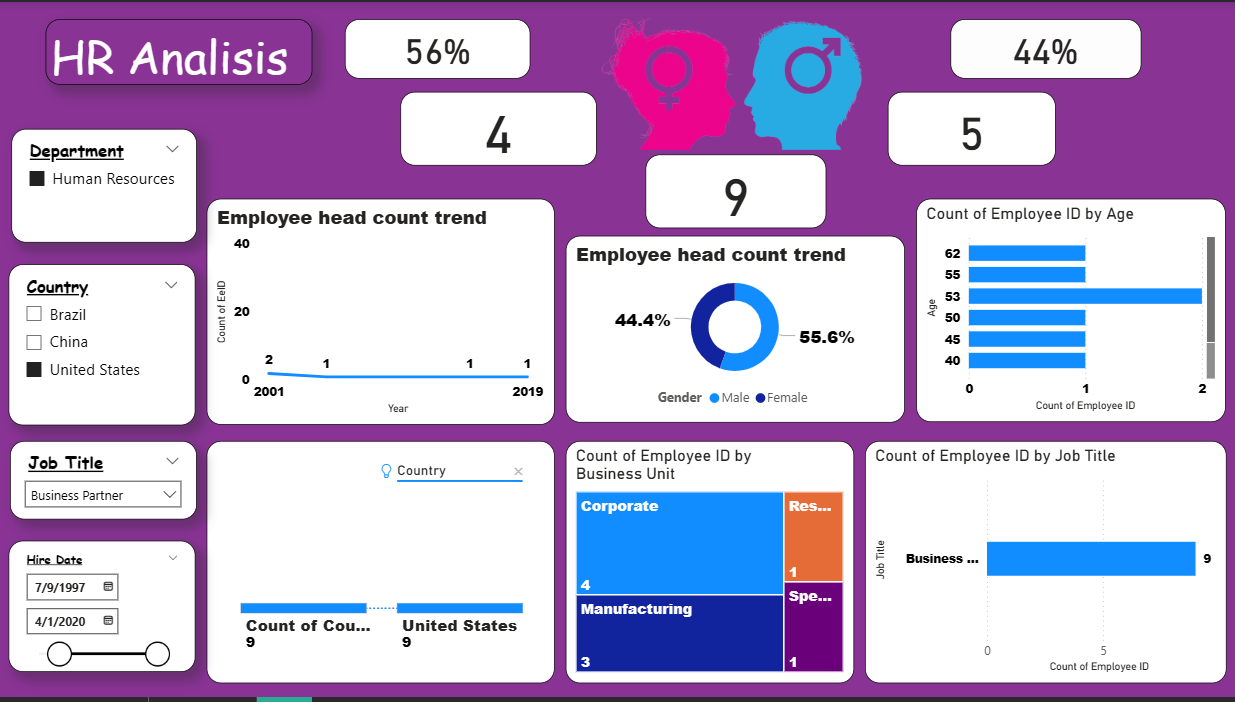

This screenshot's page, from the dashboard's own definition file:
{"tool":"powerbi","page":{"name":"Page 1","canvas":[1280,720],"ordinal":0},"visuals":[{"type":"card","fields":{"Values":["Employee Data.Total_count"]},"box":[669,158,187.6,76.8],"z":0},{"type":"lineChart","title":"Employee count trend","fields":{"Y":["Count(Employee Data.Employee ID)"],"Category":["Employee Data.Hire Date.Variation.Date Hierarchy.Year"]},"box":[214.1,203.1,360.9,234.6],"z":1000},{"type":"donutChart","title":"Employee head count trend","fields":{"Category":["Employee Data.Gender"],"Y":["Count(Employee Data.Employee ID)"]},"box":[586.3,242.2,351.5,193.5],"z":2000},{"type":"clusteredBarChart","title":"Employee Count by Age","fields":{"Category":["Employee Data.Age"],"Y":["CountNonNull(Employee Data.Employee ID)"]},"box":[949.6,203.8,320.5,231.9],"z":3000},{"type":"decompositionTreeVisual","title":"Head count by country","fields":{"Analyze":["CountNonNull(Employee Data.Country)"],"ExplainBy":["Employee Data.Country"]},"box":[214.1,454.2,360.9,251.1],"z":4000},{"type":"treemap","title":"Employee Count by Business Unit","fields":{"Group":["Employee Data.Business Unit"],"Values":["CountNonNull(Employee Data.Employee ID)"]},"box":[586.3,454.9,320.5,251.1],"z":5000},{"type":"clusteredBarChart","title":"Employee Count by Job Title","fields":{"Category":["Employee Data.Job Title"],"Y":["CountNonNull(Employee Data.Employee ID)"]},"box":[917.1,454.9,353,251.1],"z":6000},{"type":"card","fields":{"Values":["Employee Data.tOTAL_MALE_COUNT"]},"box":[920.1,93,190.5,76.8],"z":7000},{"type":"card","fields":{"Values":["Employee Data.TOTAL_FEMALE_COUNT"]},"box":[415,93,203.8,76.8],"z":8000},{"type":"card","fields":{"Values":["Employee Data.Male %"]},"box":[970.3,23.6,192,62],"z":9000},{"type":"image","box":[608.5,4.4,308.7,153.6],"z":10000},{"type":"card","fields":{"Values":["Employee Data.Female %"]},"box":[363.3,23.6,197.9,62],"z":11000},{"type":"shape","title":"HR Analisis","box":[46.5,17.3,276.5,67.8],"z":12000},{"type":"slicer","fields":{"Values":["Employee Data.Department"]},"box":[11.8,103.4,192,205.3],"z":13000},{"type":"slicer","fields":{"Values":["Employee Data.Country"]},"box":[8.9,320.5,193.5,134.4],"z":14000},{"type":"slicer","fields":{"Values":["Employee Data.Job Title"]},"box":[8.9,466.7,193.5,81.2],"z":15000},{"type":"slicer","fields":{"Values":["Employee Data.Hire Date"]},"box":[8.9,558.3,193.5,147.7],"z":16000}]}

Visuals, with their boxes in screenshot pixels (x1, y1, x2, y2), scaled from the page's 1280x720 canvas onto the 1235x702 screenshot:
card - Employee Data.Total_count: [645,154,826,229]
"Employee count trend" lineChart: [207,198,555,427]
"Employee head count trend" donutChart: [566,236,905,425]
"Employee Count by Age" clusteredBarChart: [916,199,1225,425]
"Head count by country" decompositionTreeVisual: [207,443,555,688]
"Employee Count by Business Unit" treemap: [566,444,875,688]
"Employee Count by Job Title" clusteredBarChart: [885,444,1225,688]
card - Employee Data.tOTAL_MALE_COUNT: [888,91,1072,166]
card - Employee Data.TOTAL_FEMALE_COUNT: [400,91,597,166]
card - Employee Data.Male %: [936,23,1121,83]
image: [587,4,885,154]
card - Employee Data.Female %: [351,23,541,83]
"HR Analisis" shape: [45,17,312,83]
slicer - Employee Data.Department: [11,101,197,301]
slicer - Employee Data.Country: [9,312,195,444]
slicer - Employee Data.Job Title: [9,455,195,534]
slicer - Employee Data.Hire Date: [9,544,195,688]
